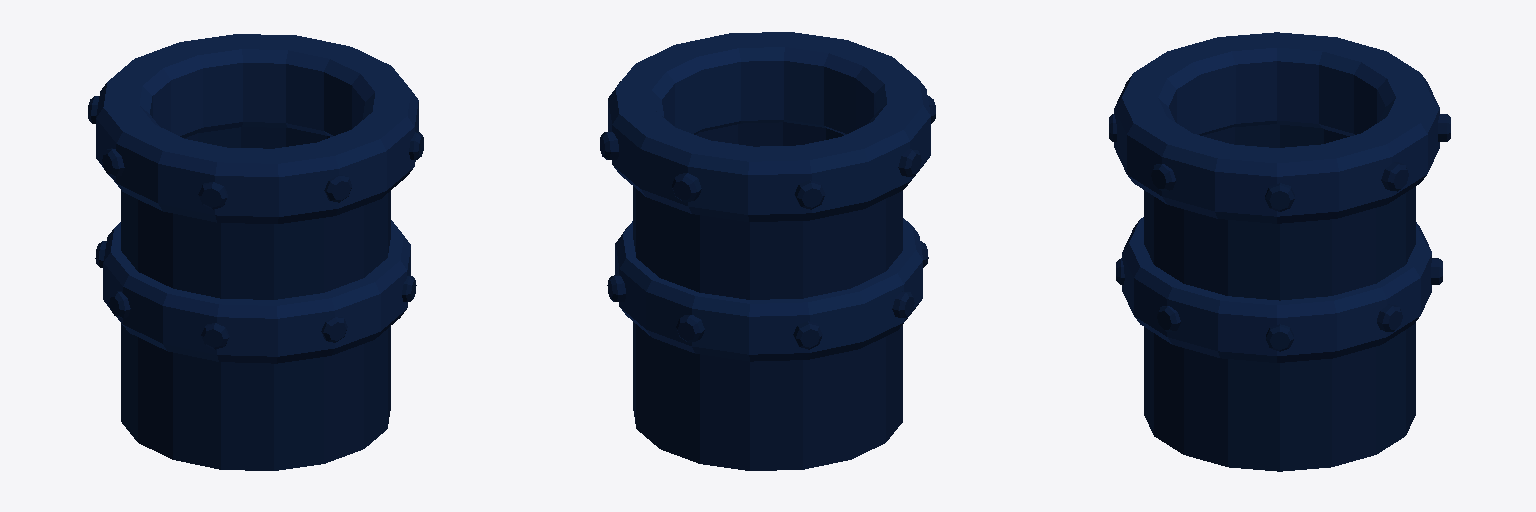
Rendered from Pipe_End.obj.
3 views of the same model, side by side, from view 1: azimuth 30°, elevation 25°; view 2: azimuth 150°, elevation 25°; view 3: azimuth 270°, elevation 25° (orthographic).
Visible parts, largest first — view 1: Pipe_End_Cylinder.038; view 2: Pipe_End_Cylinder.038; view 3: Pipe_End_Cylinder.038.
Part boxes in pixels (x1,y1,x2,y2): Pipe_End_Cylinder.038: (88,34,423,470); Pipe_End_Cylinder.038: (600,32,935,470); Pipe_End_Cylinder.038: (1109,32,1450,471).
Bounding box in the file's own units: 2.18 × 2.22 × 2.18.